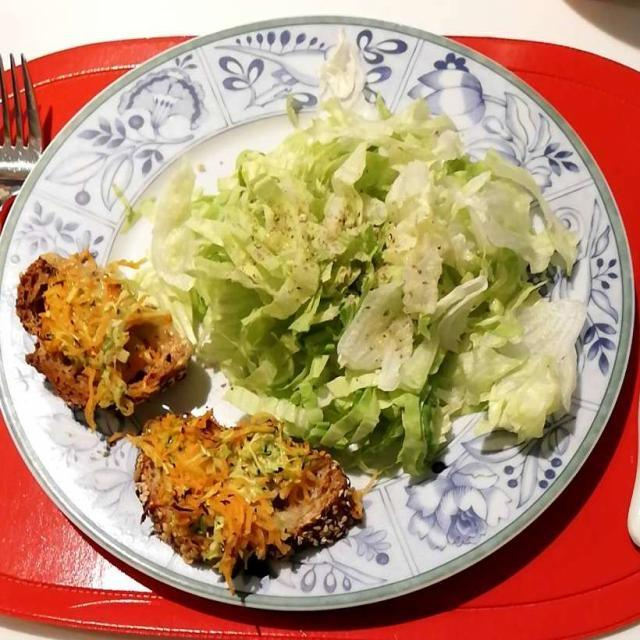bread: (24, 259, 339, 569)
carrot: (51, 252, 337, 563)
salad: (157, 73, 571, 479)
zucchini: (49, 265, 328, 550)
